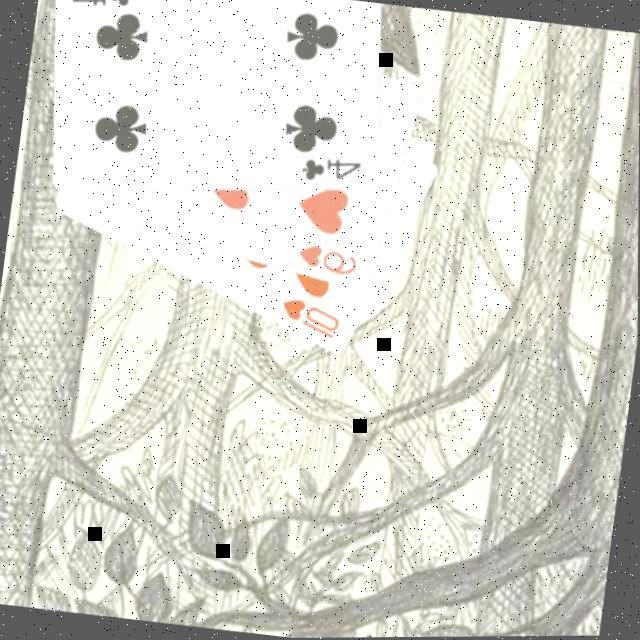10H: (273, 294, 344, 344)
4C: (295, 152, 364, 190), (65, 0, 135, 15)
6H: (290, 240, 360, 282)
